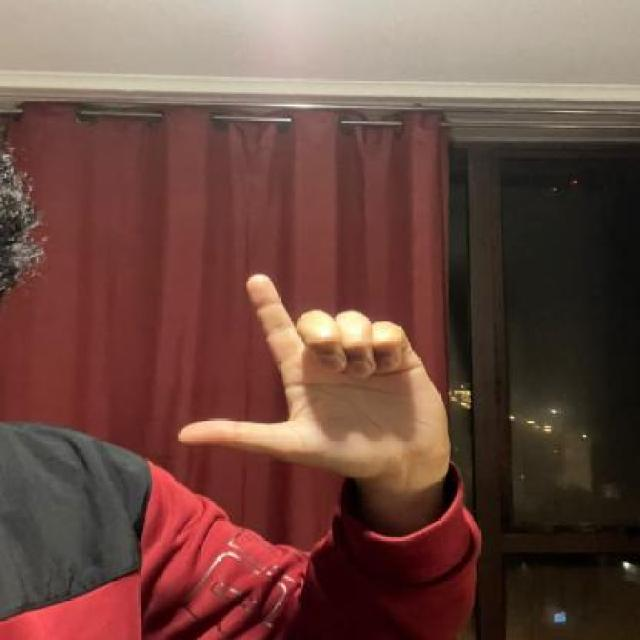L: (168, 268, 464, 490)
